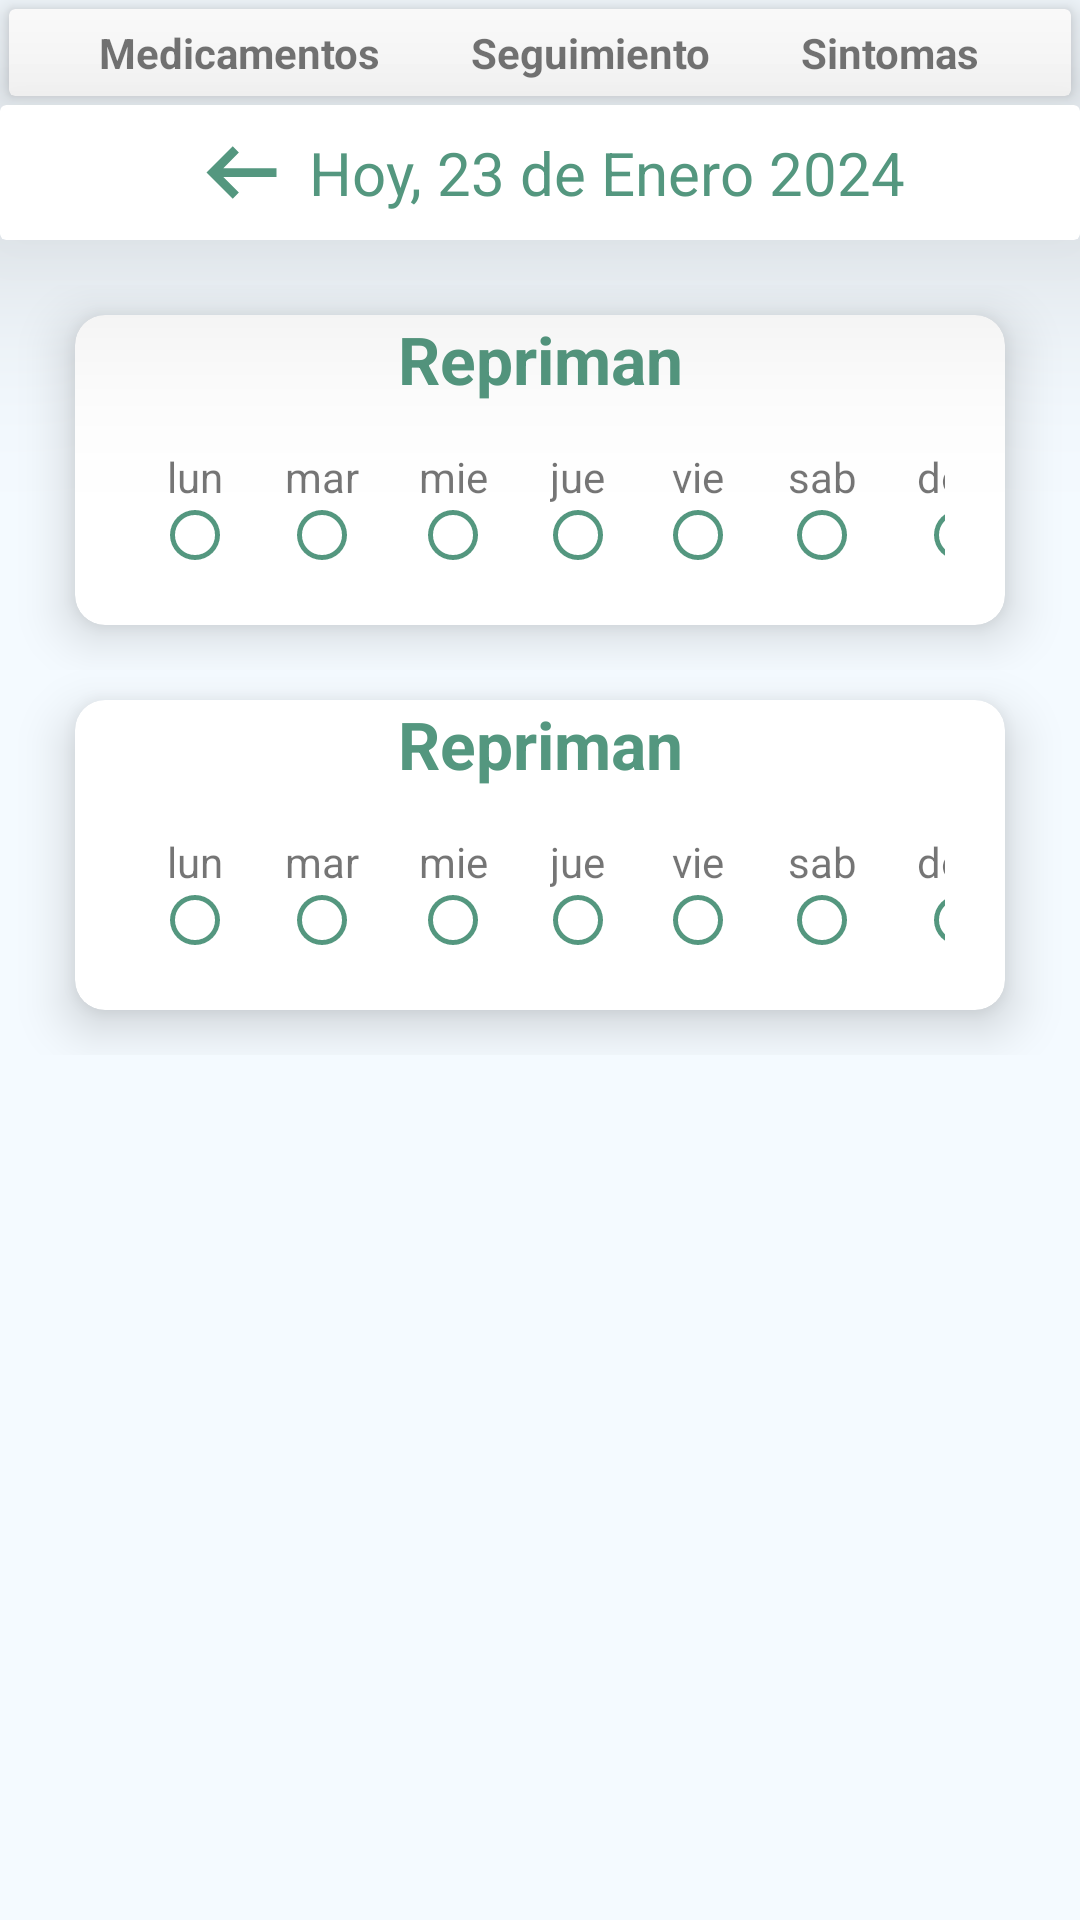

Named icons in this screenshot (1080 x 1920) and their centers, point (x, y):
arrow left: point (241, 172)
